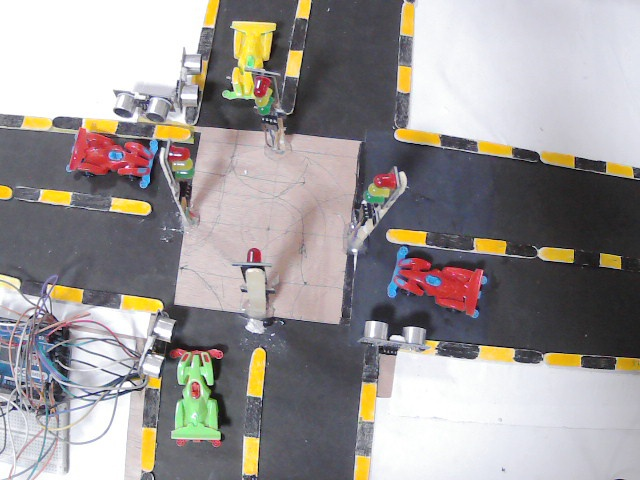black_strip: (427, 230, 475, 250), (79, 291, 121, 311), (241, 396, 262, 435), (353, 417, 373, 455), (436, 134, 474, 153), (440, 339, 477, 358), (289, 18, 308, 53), (359, 349, 378, 382), (281, 77, 297, 111), (576, 158, 608, 175), (582, 353, 612, 371), (144, 386, 158, 424), (73, 196, 111, 210), (398, 37, 413, 70), (22, 279, 51, 296), (119, 124, 156, 137), (200, 30, 215, 60), (394, 92, 408, 124), (513, 349, 542, 364), (508, 244, 537, 258), (512, 147, 537, 162), (53, 115, 81, 127), (575, 251, 597, 266), (12, 188, 39, 199), (621, 254, 637, 269), (189, 111, 202, 129), (1, 115, 22, 126), (197, 86, 204, 99), (243, 471, 255, 478), (142, 471, 151, 480), (631, 167, 639, 177)
car: (388, 250, 489, 322), (67, 126, 157, 186), (170, 348, 224, 448), (223, 20, 275, 103)
mixed_lane: (389, 0, 636, 186), (384, 227, 639, 277), (424, 339, 640, 376), (1, 275, 164, 317), (0, 113, 199, 145), (0, 186, 154, 219), (186, 2, 222, 129), (237, 347, 270, 480), (350, 343, 382, 479), (278, 0, 313, 113), (136, 377, 160, 478)
traffic_light: (354, 164, 406, 234), (233, 248, 274, 302), (163, 139, 195, 201), (249, 70, 279, 126)
uno_breadboard: (0, 312, 73, 401), (0, 401, 72, 480), (357, 318, 429, 357), (138, 310, 177, 378), (172, 48, 204, 113), (114, 88, 173, 123)
yellow_strip: (246, 350, 264, 396), (395, 126, 440, 144), (120, 296, 162, 315), (153, 126, 195, 145), (540, 148, 575, 167), (357, 381, 376, 416), (83, 117, 118, 136), (540, 245, 575, 263), (141, 428, 156, 468), (480, 344, 515, 361), (475, 142, 510, 158), (386, 230, 425, 244), (242, 437, 258, 471), (285, 49, 303, 78), (475, 237, 505, 254), (51, 288, 82, 304), (543, 353, 582, 365), (114, 200, 148, 213), (22, 118, 51, 131), (396, 66, 411, 91), (205, 2, 219, 28), (351, 456, 369, 476), (294, 2, 309, 26), (39, 192, 72, 202), (281, 105, 293, 132), (402, 4, 413, 33), (608, 164, 632, 177), (615, 357, 638, 370), (600, 253, 620, 266), (4, 279, 20, 293), (201, 59, 209, 80), (146, 377, 158, 391), (0, 184, 9, 198), (427, 340, 435, 351)
